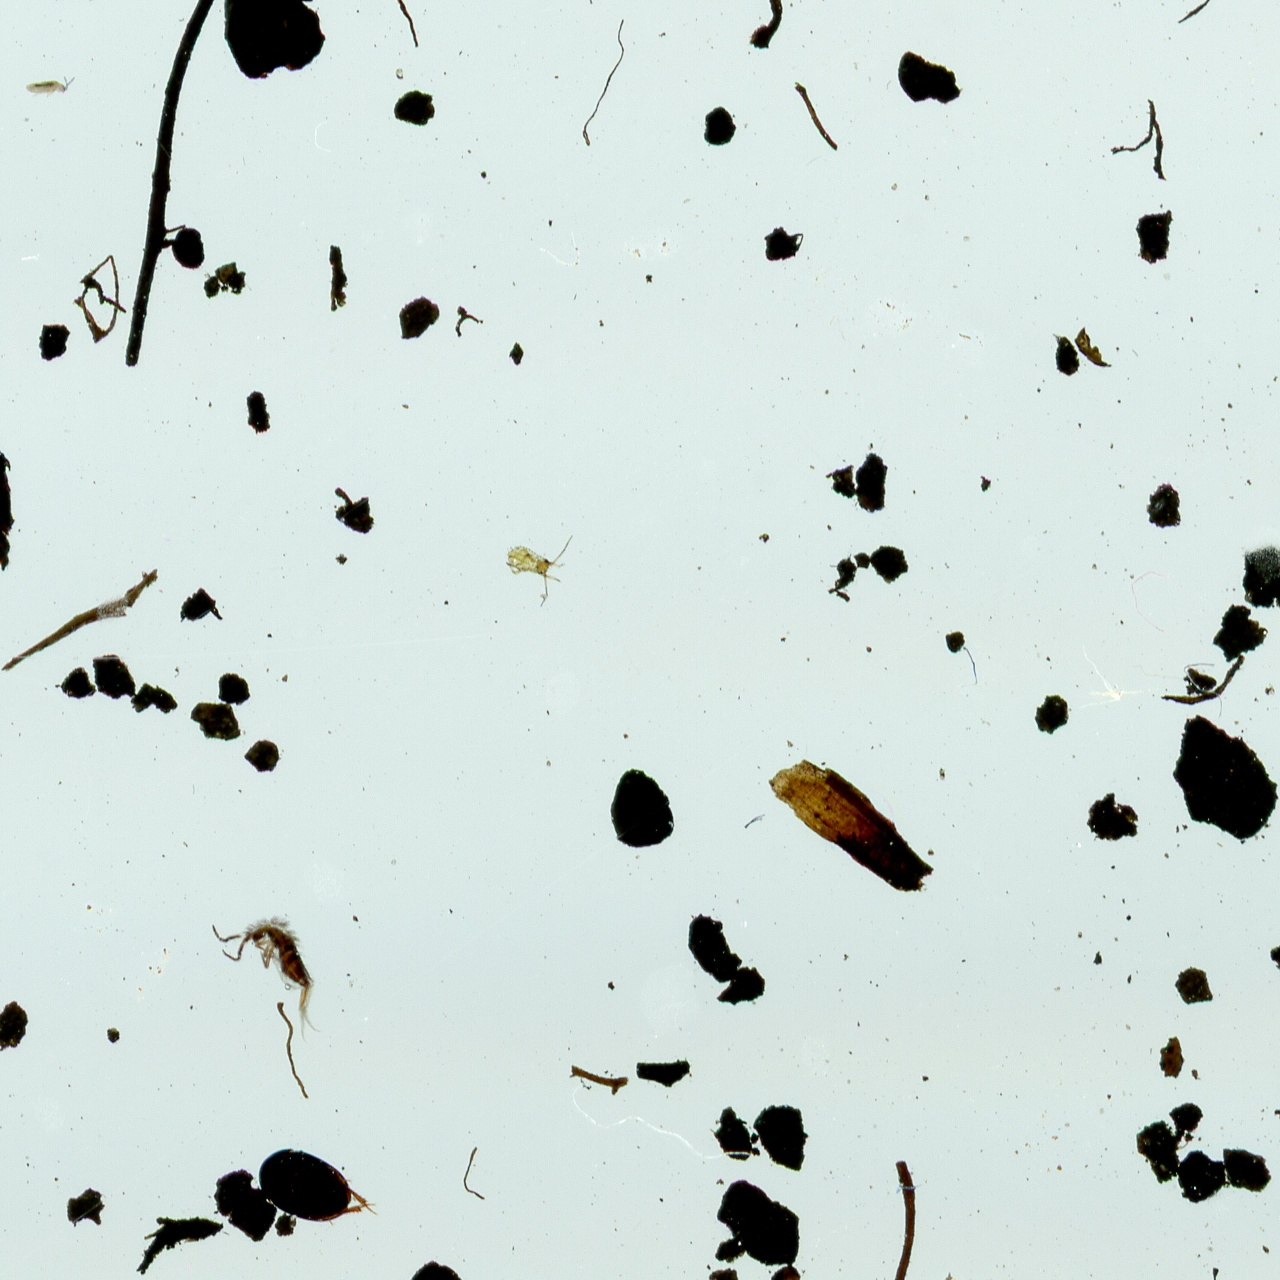arthropod: (209, 911, 324, 1048), (253, 1142, 382, 1230), (501, 530, 577, 610), (22, 72, 78, 102)
